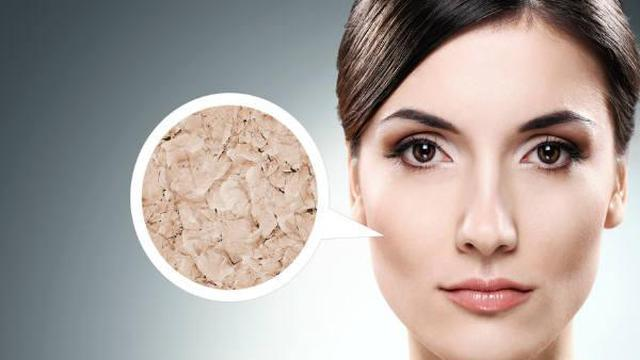Dry-Skin: (143, 107, 318, 290)
